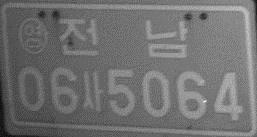0: (140, 68, 171, 118), (16, 64, 47, 113)
4: (213, 72, 244, 120)
5: (107, 68, 137, 116)
6: (175, 69, 206, 120), (49, 66, 78, 116)
사: (80, 69, 105, 114)
영: (18, 16, 48, 56)
전남_D: (57, 17, 189, 59)
